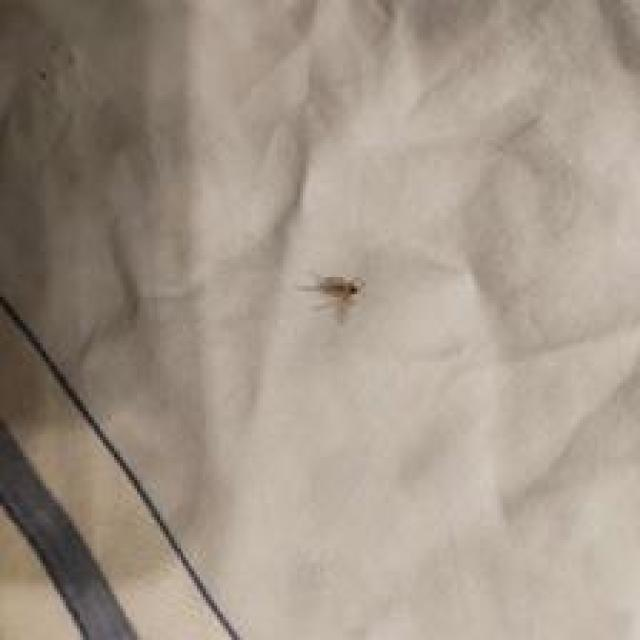Culex: (297, 271, 366, 323)
